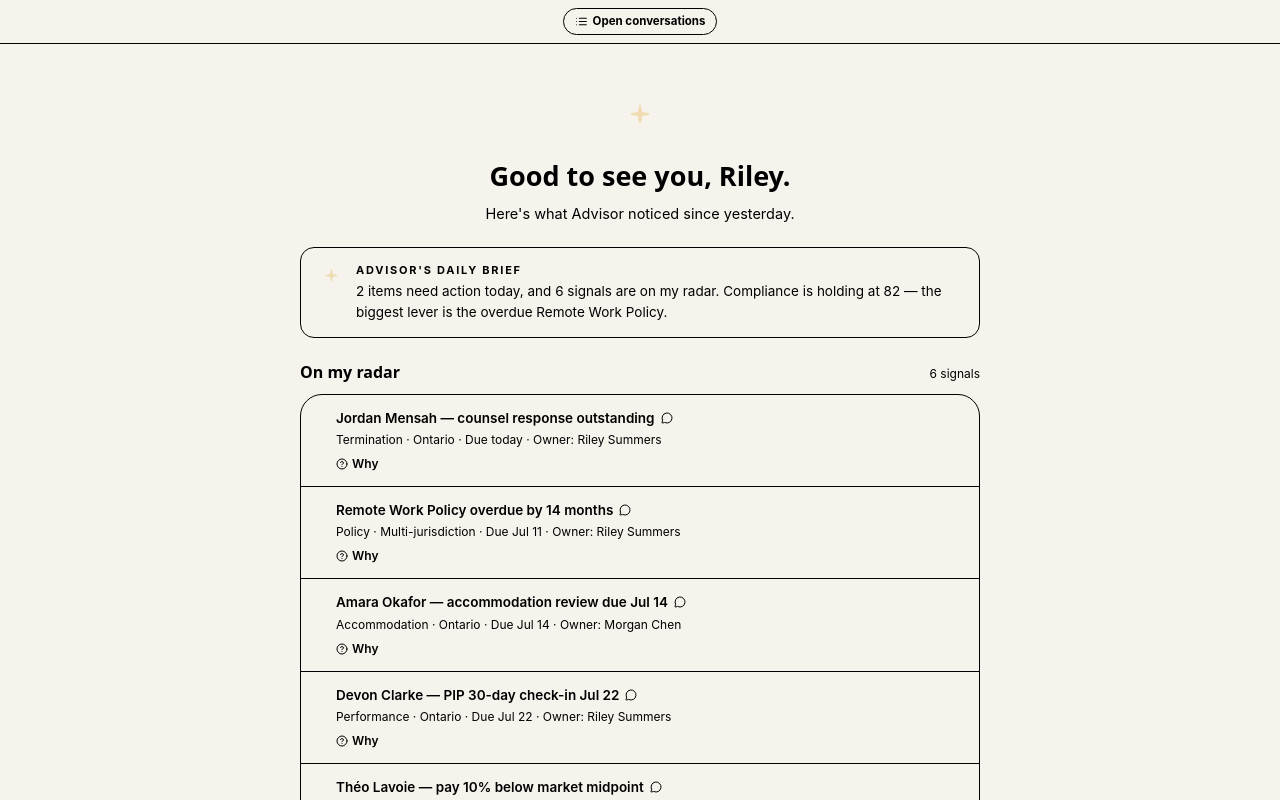
Test: AdvisorView › starts a conversation from a radar row using its ask prompt
The width and height of the screenshot is (1280, 800).
Click the button "Jordan Mensah — counsel response outstanding" at (504, 418), box [336,408,672,428]
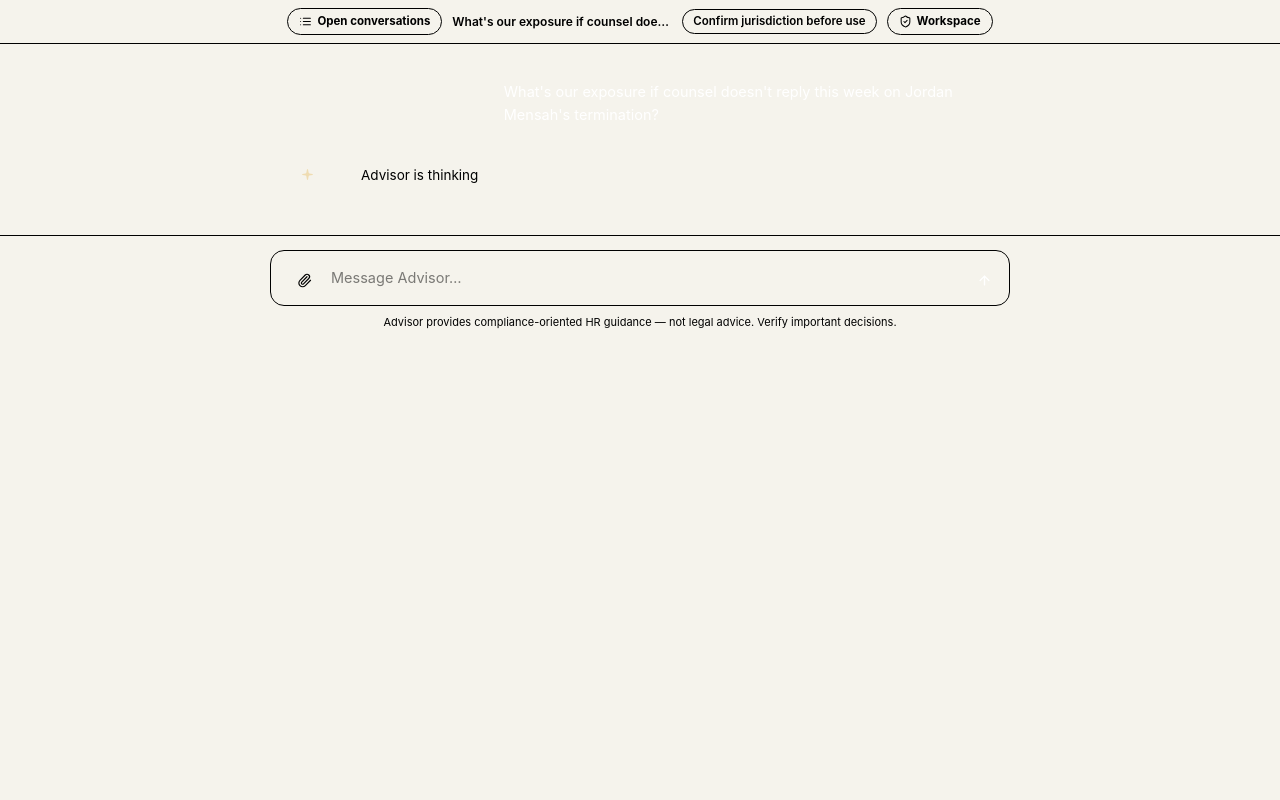
Now the text "What's our exposure if counsel doesn't reply this week" is shown, box [452,14,878,29]
